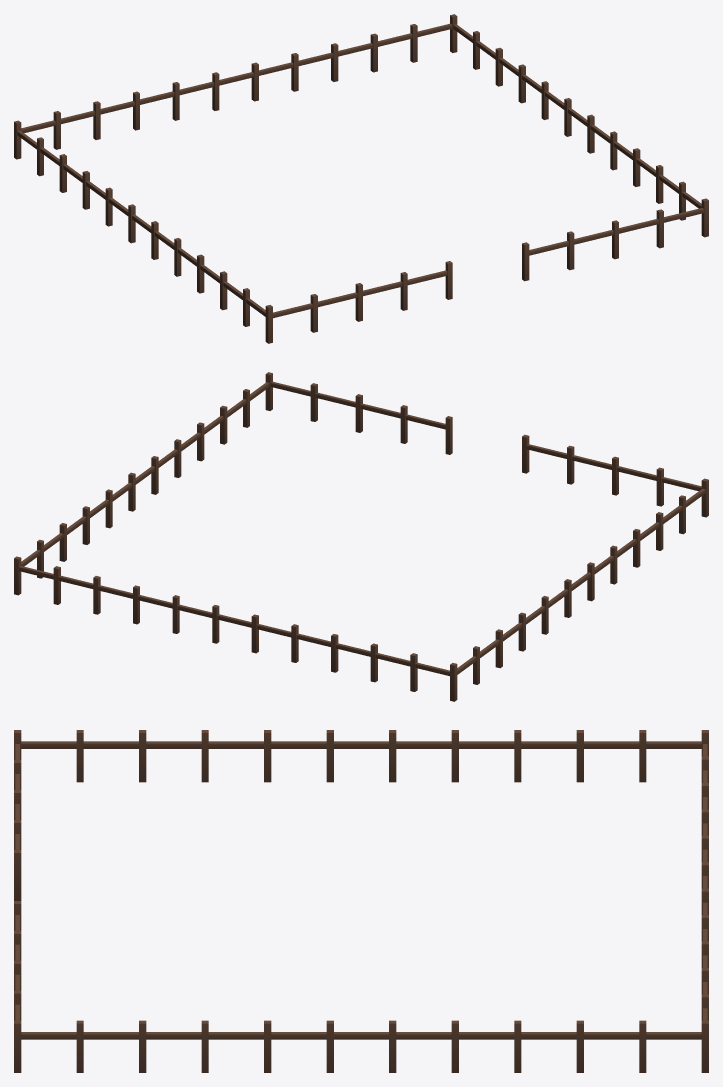
File: wall_NE_0.glb
The picture shows the model from 3 angles, top to bottom: view 1: azimuth 30°, elevation 25°; view 2: azimuth 150°, elevation 25°; view 3: azimuth 270°, elevation 25°; orthographic projection. The views are drawn at different scales.
Parts seen in each view (by area): view 1: Body; view 2: Body; view 3: Body.
Boxes of the visible parts, x1,y1,x2,y2 form: Body: [14, 14, 708, 343]; Body: [14, 372, 708, 701]; Body: [14, 730, 708, 1072].
Size of the model in its own units: 5.76 by 0.45 by 5.76.
1 material, 1 textured.
